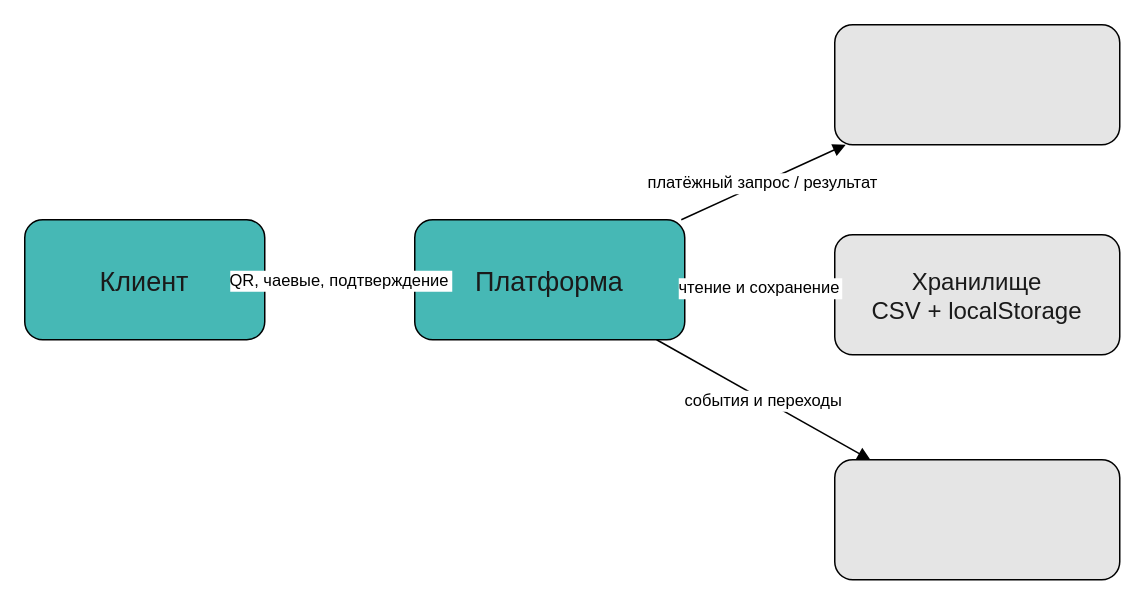
The diagram is 1145 pixels wide and 605 high, and some of its shapes have lost their labels. The shapes that lost their labels are listed below. From the top down, each one's centre as x and y in pixels, then its label:
At (x=976, y=84): "Эмулятор шлюза".
At (x=976, y=519): "Аудит".
